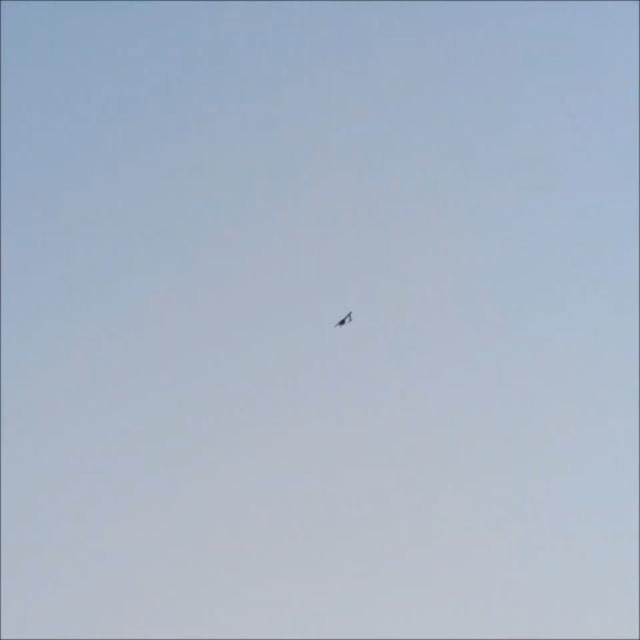UAV: (336, 278, 370, 348)
